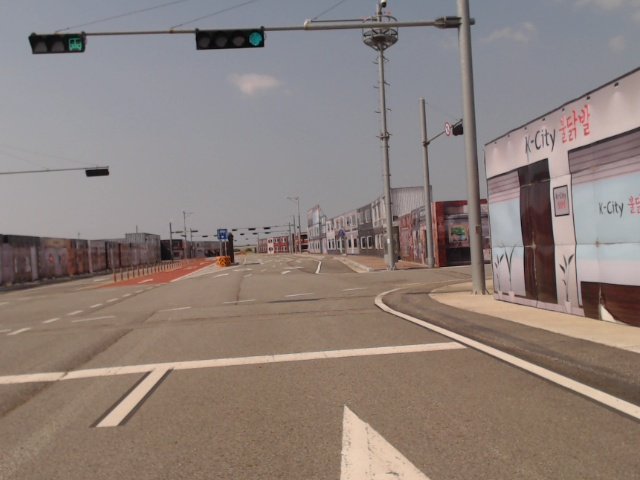straight_green_4: (196, 29, 264, 47)
